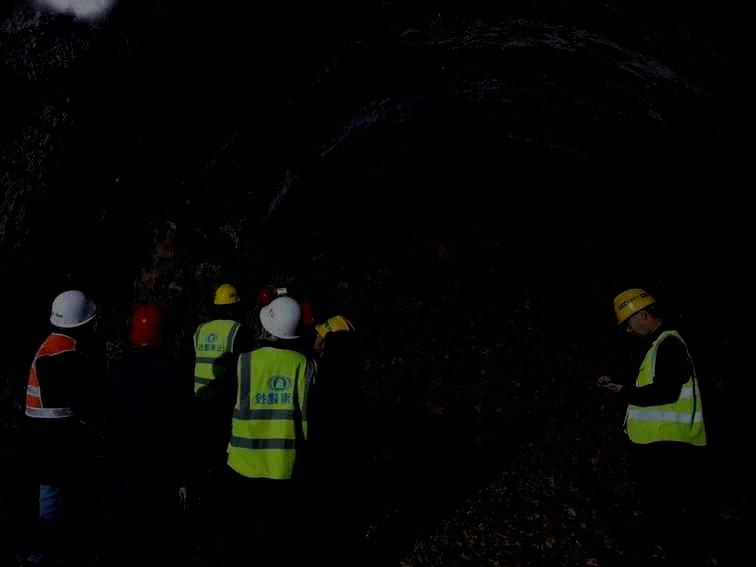helmet: (612, 288, 661, 335), (50, 290, 97, 336), (259, 296, 302, 339), (128, 303, 167, 346), (312, 316, 354, 351), (213, 283, 240, 315)
